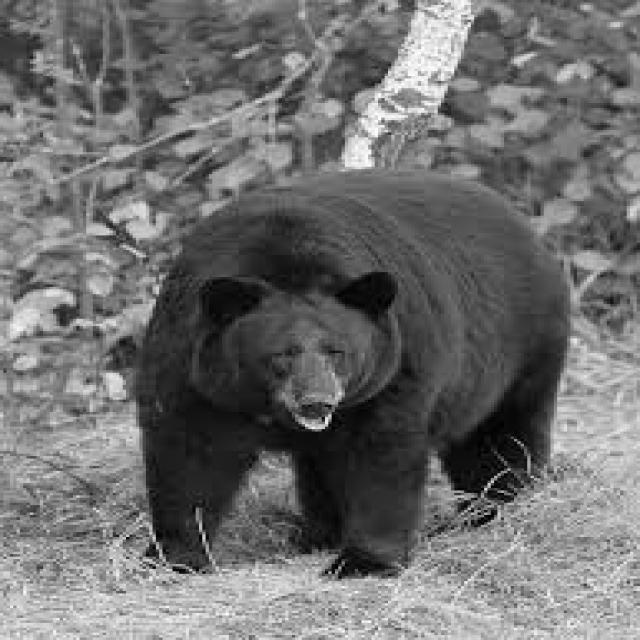Bear: (164, 185, 481, 585)
